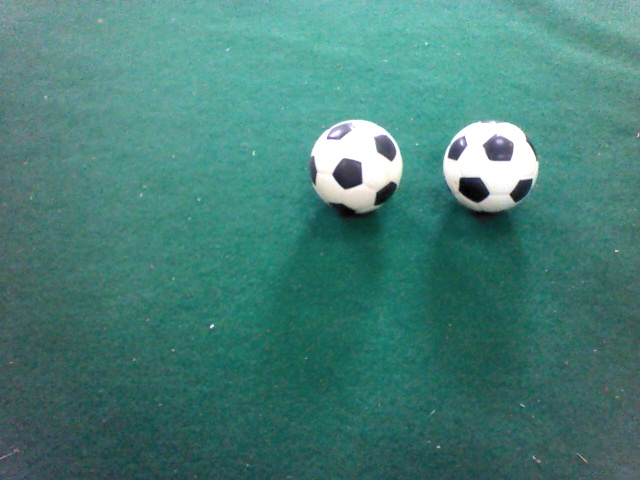ball: (116, 50, 235, 171)
